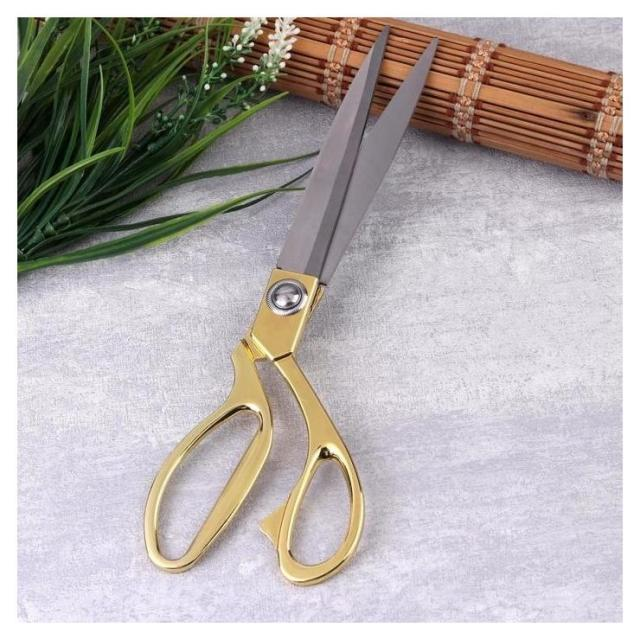tesoura: (138, 24, 444, 592)
